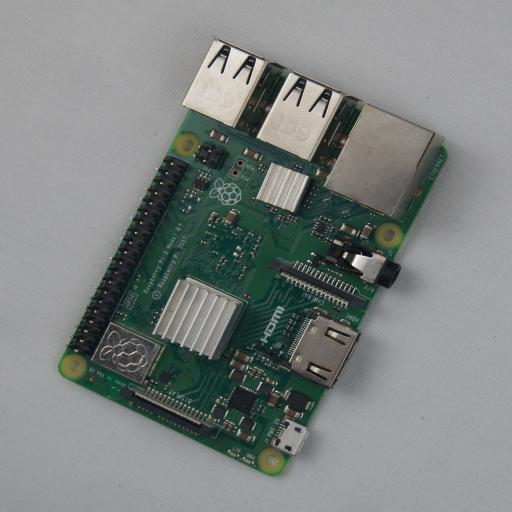Raspberry Pi 3 B-: (58, 39, 448, 476)
